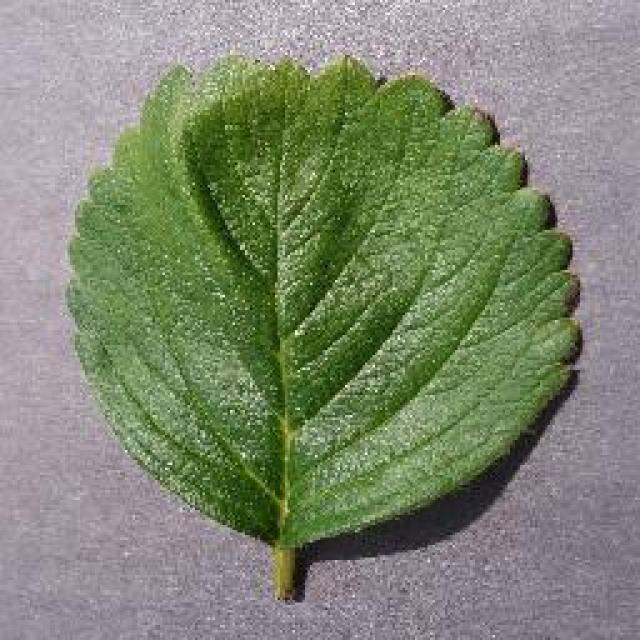Strawberry___healthy: (55, 33, 593, 615)
